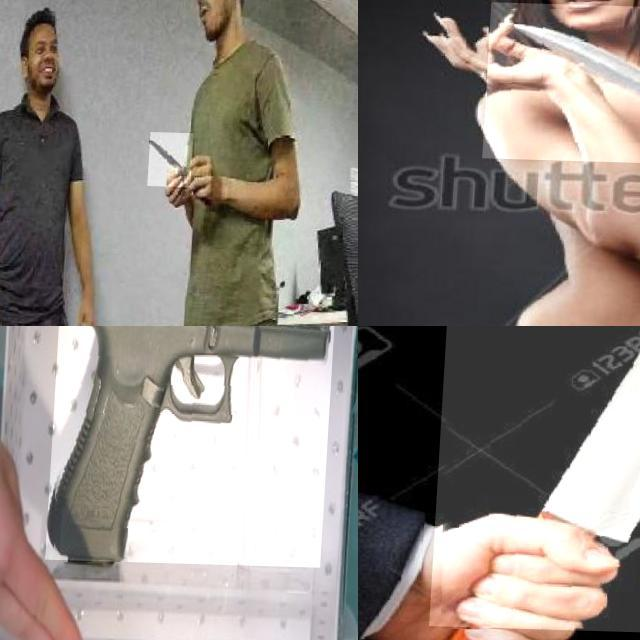-: (435, 326, 640, 633), (485, 1, 640, 164), (151, 130, 197, 185)
gun-knife-thesis - v11 Yolov5 augmented: (51, 326, 341, 564)
